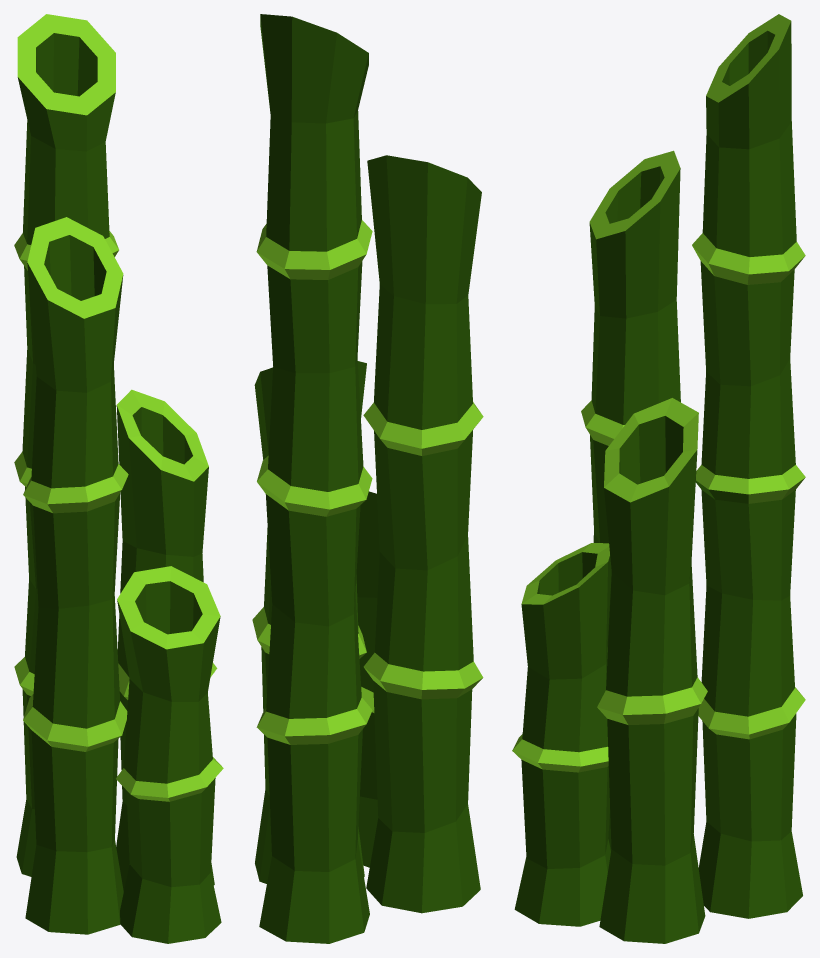
File: Bamboo_2.FBX
3 renders of one model, left to right at view 1: azimuth 30°, elevation 25°; view 2: azimuth 150°, elevation 25°; view 3: azimuth 270°, elevation 25°, orthographic. The views are drawn at different scales.
Visible parts, largest first — view 1: Pedre; view 2: Pedre; view 3: Pedre.
Part boxes in pixels (x1,y1,x2,y2): Pedre: (14,14,223,943); Pedre: (252,14,483,943); Pedre: (512,14,805,943).
Bounding box in the file's own units: 4.49 × 19.26 × 5.86.
